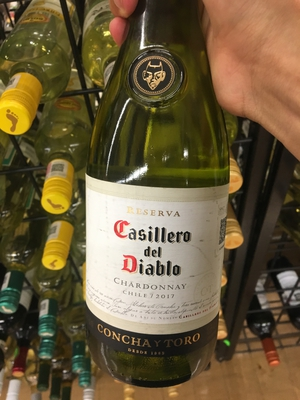casillero del diablo chardonnay: (77, 19, 241, 380)
